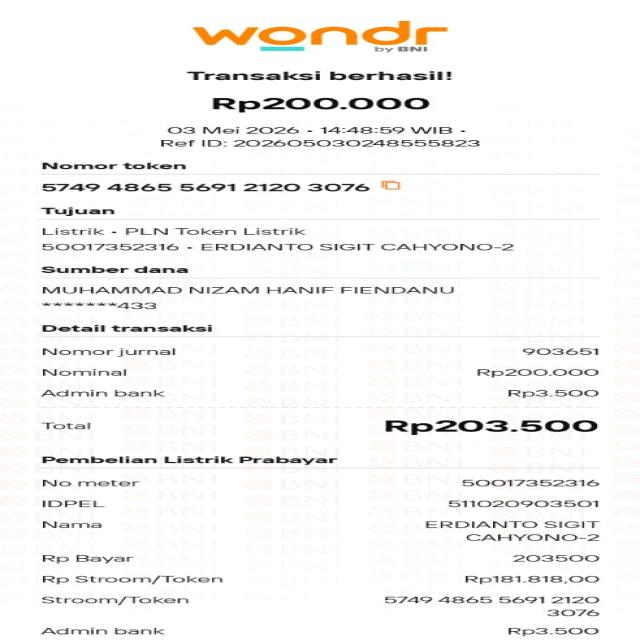date: (162, 123, 474, 139)
store: (179, 18, 459, 57)
total: (39, 416, 605, 436)
